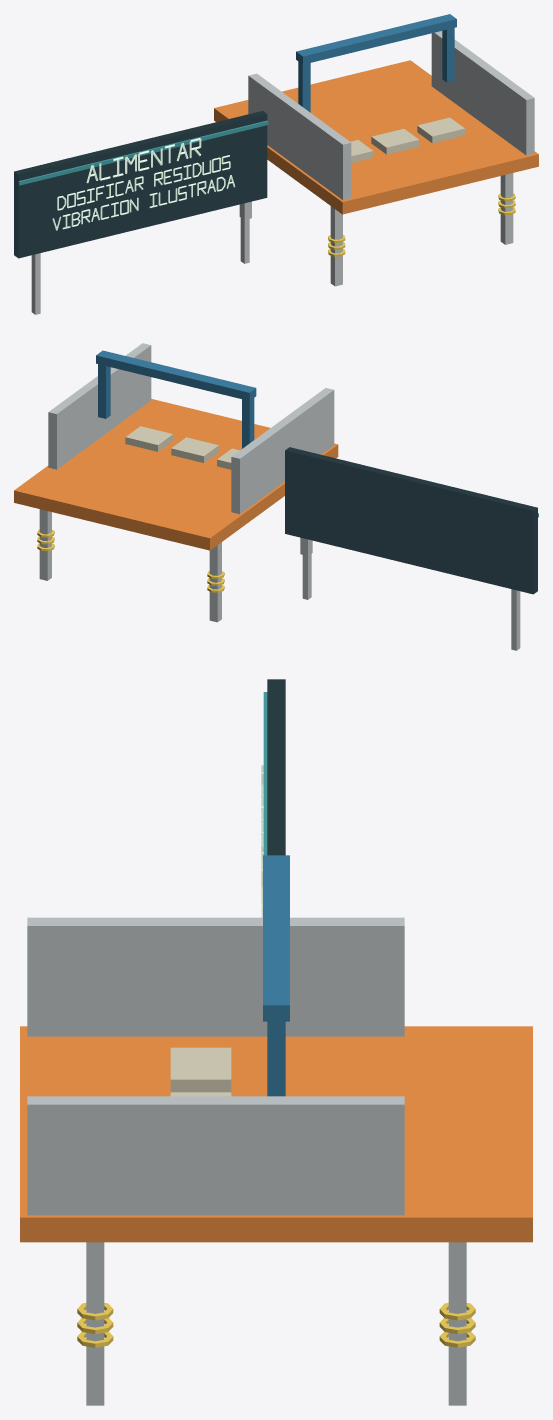
The model's file is CYCLE-006.glb.
3 views of the same model, one above another, from view 1: azimuth 30°, elevation 25°; view 2: azimuth 150°, elevation 25°; view 3: azimuth 270°, elevation 25° (orthographic). The views are drawn at different scales.
Visible parts, largest first — view 1: CYCLE-006; view 2: CYCLE-006; view 3: CYCLE-006.
Boxes of the visible parts, box(x1,y1,x2,y2) form: CYCLE-006: box(14, 14, 538, 314); CYCLE-006: box(14, 343, 538, 650); CYCLE-006: box(20, 679, 532, 1405).
Size of the model in its own units: 7 by 2.84 by 3.4.
